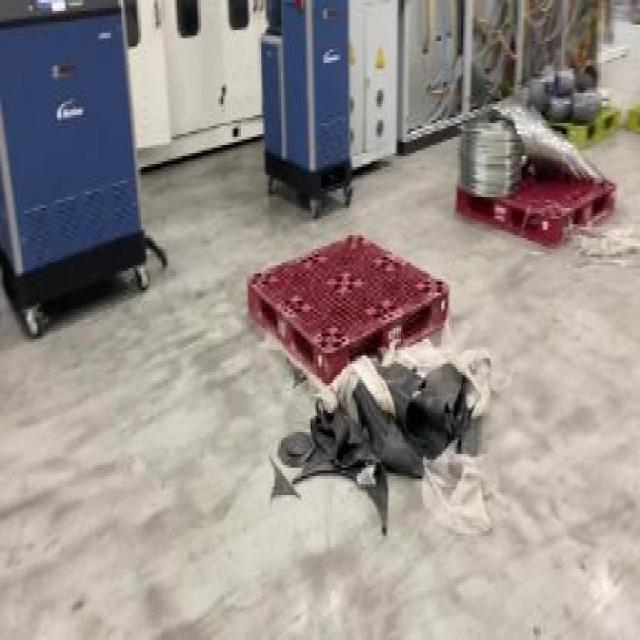box: (242, 232, 452, 418), (457, 96, 614, 265), (502, 52, 622, 145)
